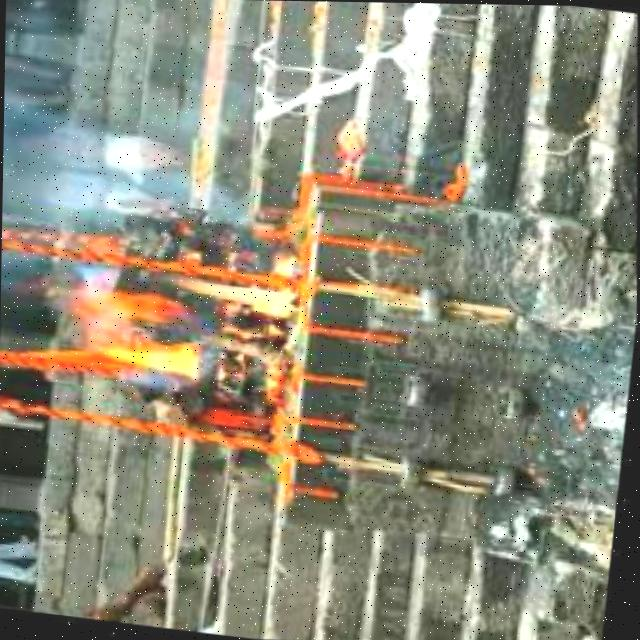fire: (60, 258, 304, 390)
